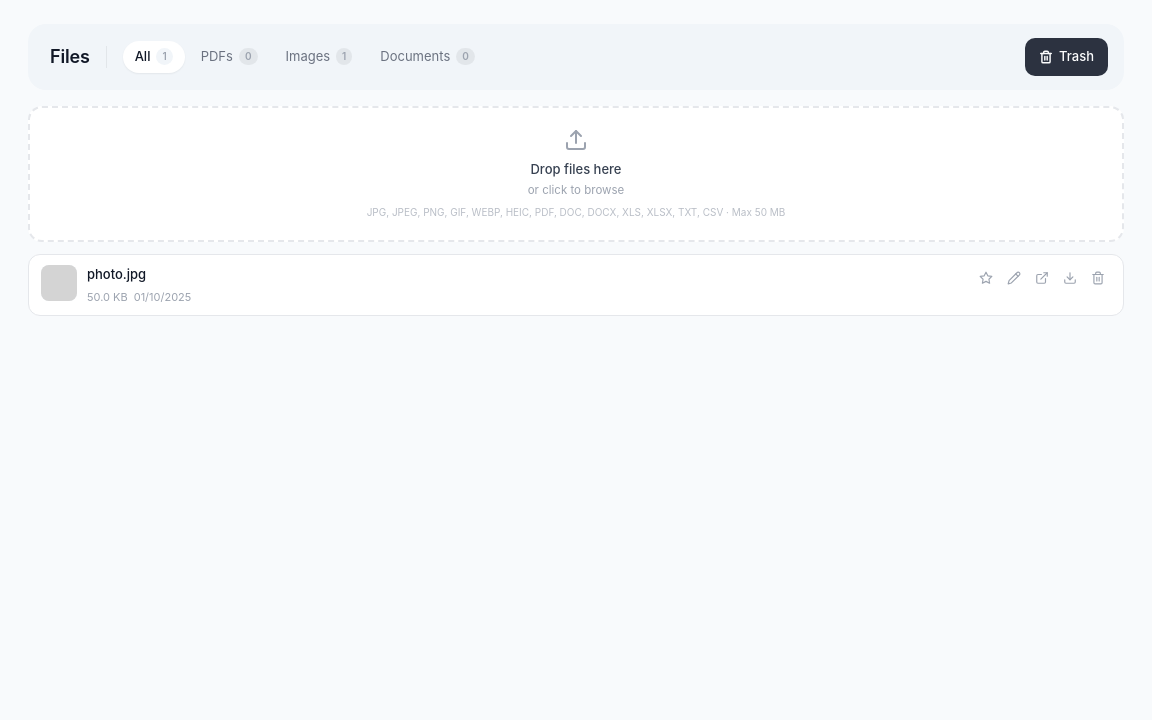
Test: FileManager › FE-COMP-FILEMANAGER-010: image file click opens lightbox
Note: Click the file name to open lightbox
What coordinates should you click on to do the following:
click the text "photo.jpg"
I would click on:
 (117, 275)
Its box is [87,265,146,285].
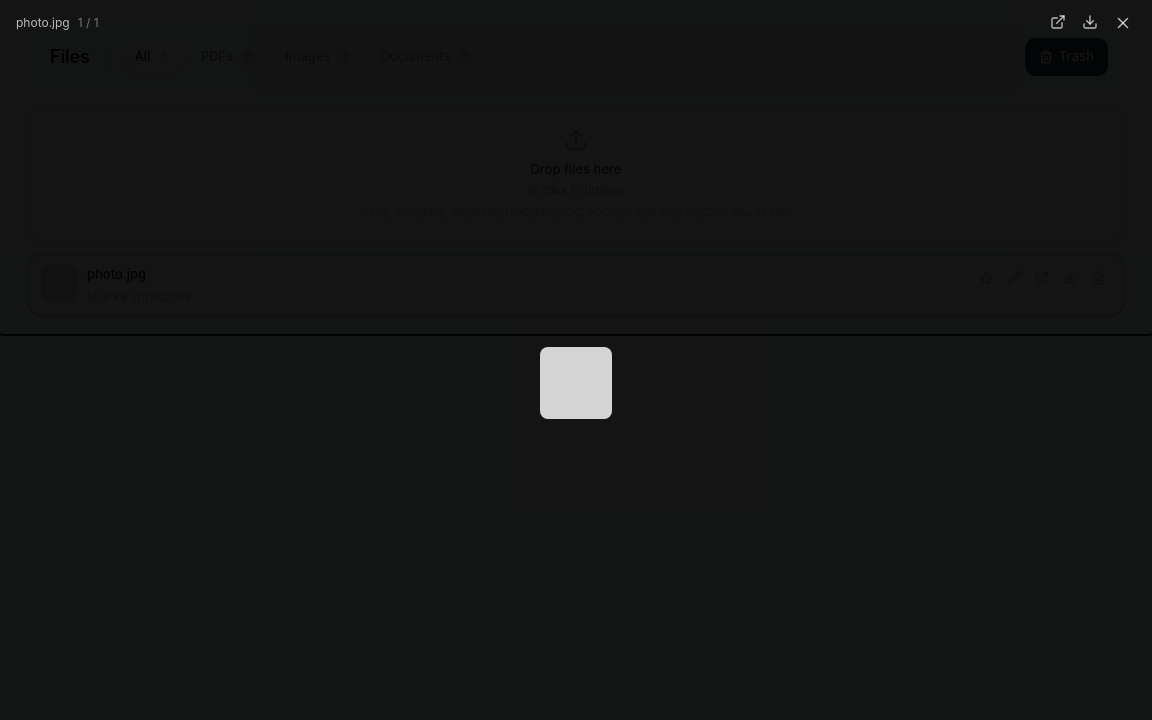
Check: the text "1 / 1" is shown, box [78,15,99,30]
